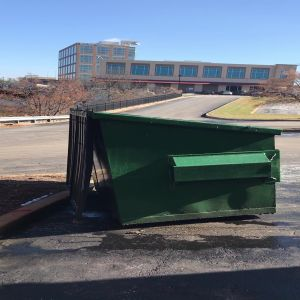Dumpster: (60, 105, 287, 229)
